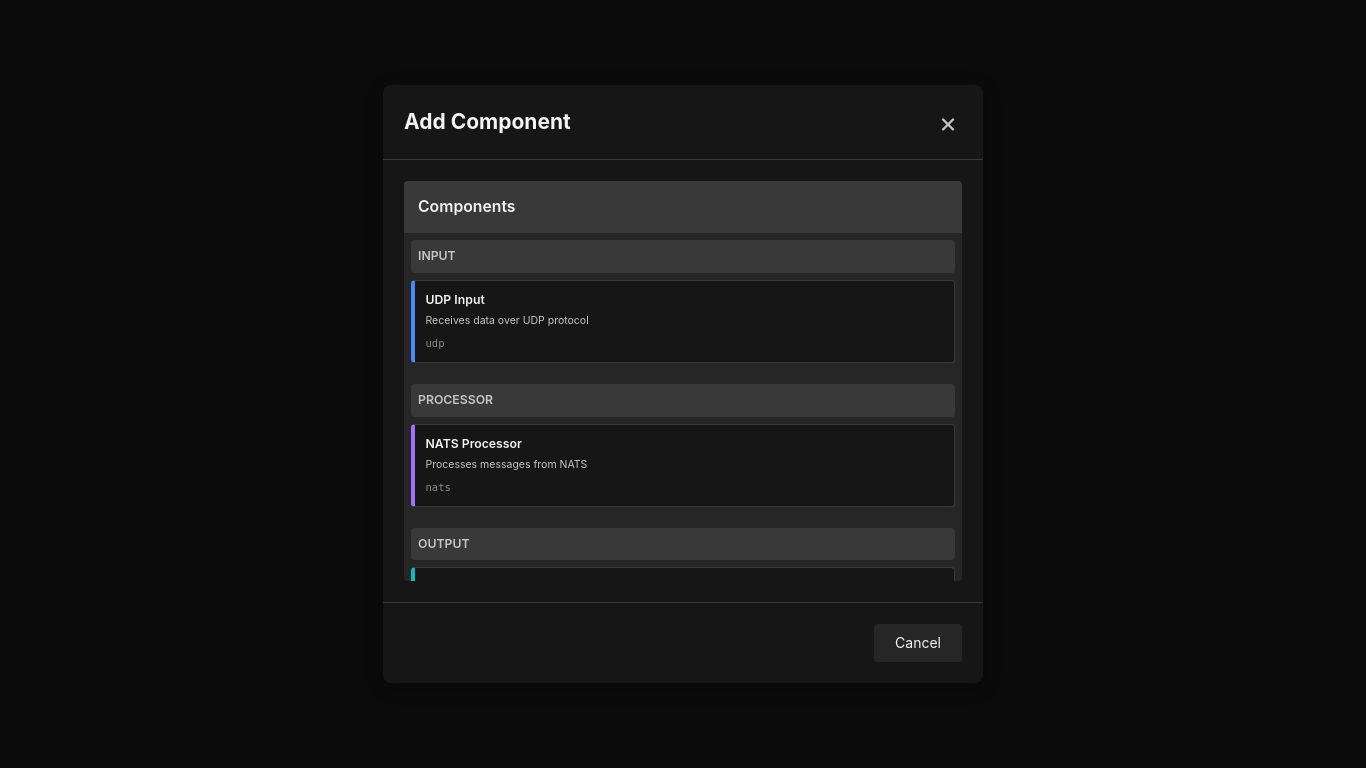
Test: AddComponentModal › Form Validation › should disable Add button when name is empty
The width and height of the screenshot is (1366, 768).
Step 1. Double-click the button "UDP Input Receives data over UDP protocol udp" → {"x": 455, "y": 300}, box x1=411 y1=280 x2=955 y2=363
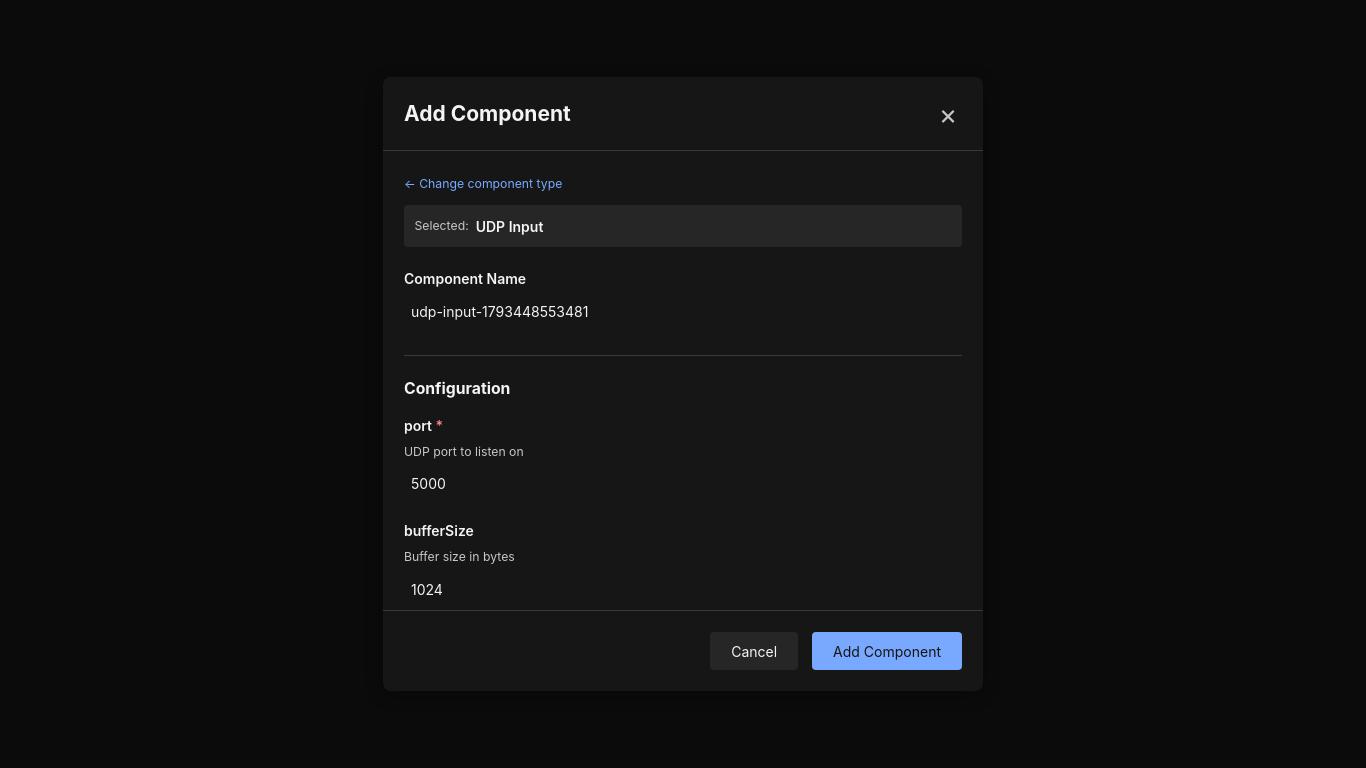
Note: Clear the auto-generated name
Step 2. Clear the field named "name" → {"x": 683, "y": 312}, box x1=404 y1=296 x2=962 y2=327
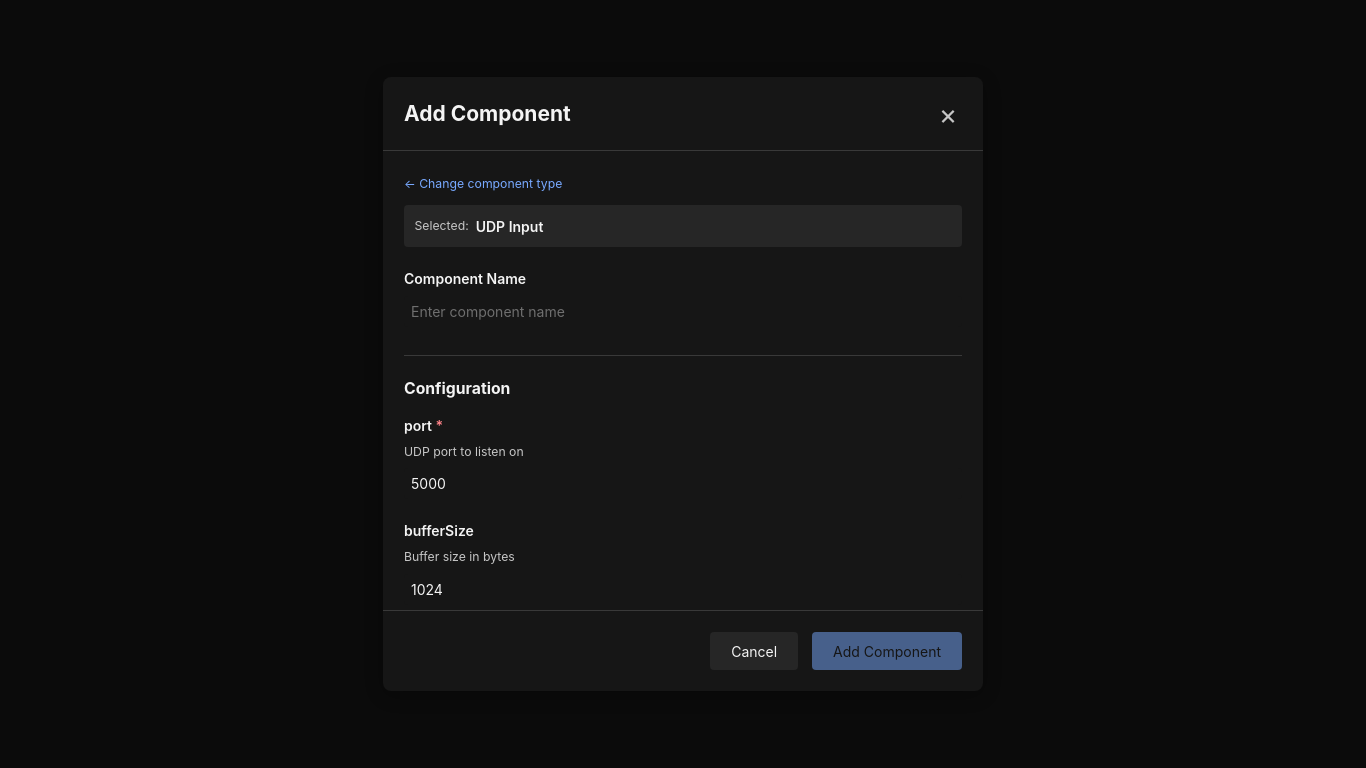
Now the button "Add Component" is disabled, box x1=812 y1=632 x2=962 y2=670
